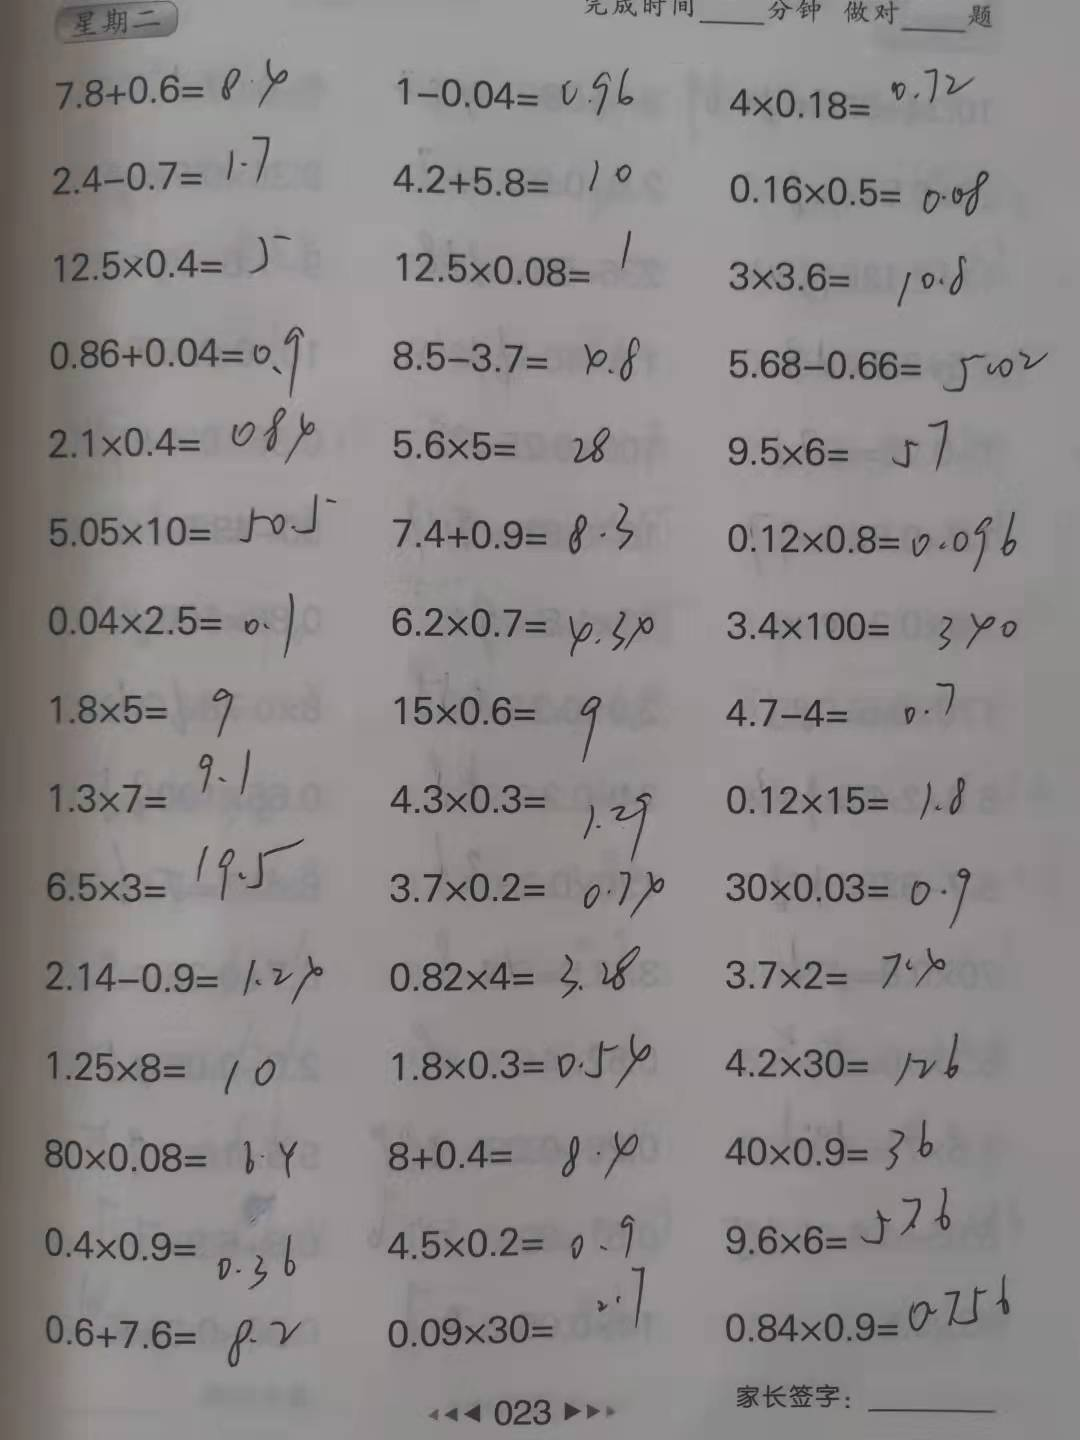equation: (717, 1265, 1023, 1350), (715, 324, 1055, 400), (383, 771, 656, 863), (382, 1266, 658, 1353), (45, 315, 311, 405), (725, 50, 989, 140), (38, 932, 329, 1011), (715, 663, 970, 752), (29, 1219, 307, 1300), (715, 509, 1033, 577), (717, 152, 1005, 225), (386, 679, 615, 770), (713, 594, 1020, 660), (389, 1025, 661, 1099), (717, 404, 959, 487), (44, 834, 313, 907), (382, 590, 666, 659), (717, 859, 980, 933), (49, 127, 281, 210), (391, 219, 644, 295), (31, 1120, 311, 1188), (40, 224, 299, 297), (719, 1176, 962, 1253), (386, 494, 646, 563), (34, 1307, 308, 1372), (43, 408, 322, 471), (383, 869, 680, 928), (43, 747, 262, 827), (718, 249, 990, 313), (392, 937, 647, 1005), (384, 322, 646, 388), (379, 1122, 653, 1185), (46, 589, 300, 656), (50, 487, 337, 545), (720, 760, 974, 825), (395, 58, 653, 119), (51, 51, 292, 116), (714, 1105, 943, 1172), (722, 1026, 975, 1086), (378, 1207, 642, 1263), (719, 936, 953, 998), (390, 154, 643, 211), (44, 673, 246, 743), (43, 1041, 286, 1099), (387, 418, 616, 474)
